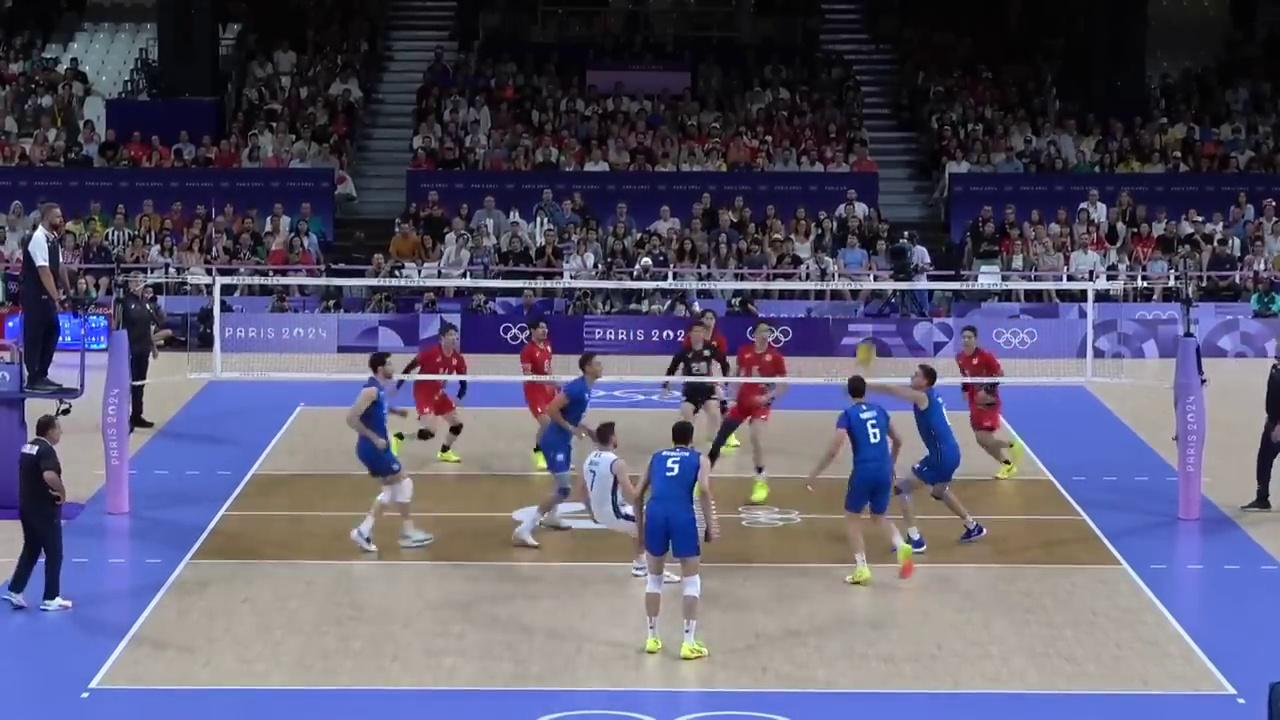ball: (855, 341, 877, 368)
